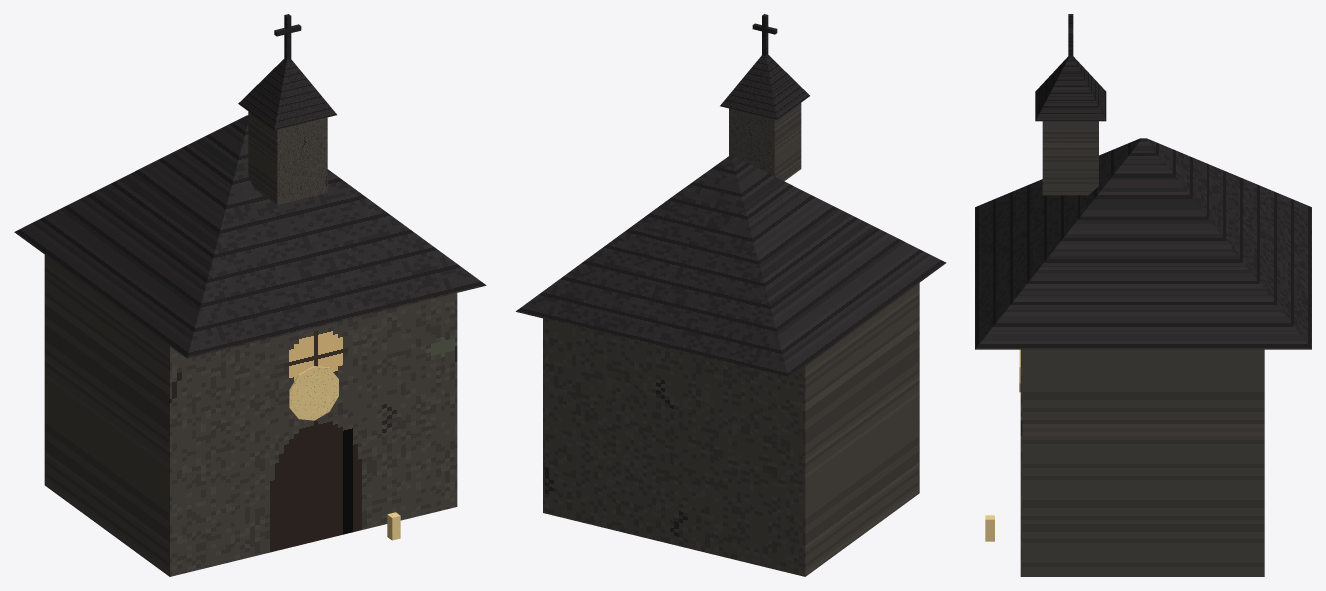
File: chapel.glb
The picture shows the model from 3 angles, left to right: view 1: azimuth 30°, elevation 25°; view 2: azimuth 150°, elevation 25°; view 3: azimuth 270°, elevation 25°; orthographic projection. The views are drawn at different scales.
Parts seen in each view (by area): view 1: chapel, front, glow-window; view 2: chapel; view 3: chapel, front.
Part boxes in pixels (x1,y1,x2,y2): chapel: (14,14,486,575); front: (169,293,457,576); glow-window: (289,366,338,420); chapel: (515,14,946,576); chapel: (975,14,1311,576); front: (1020,349,1022,576).
Bounding box in the file's own units: 4.17 × 6.75 × 4.17.
Materials: 1 (1 with a texture image).
